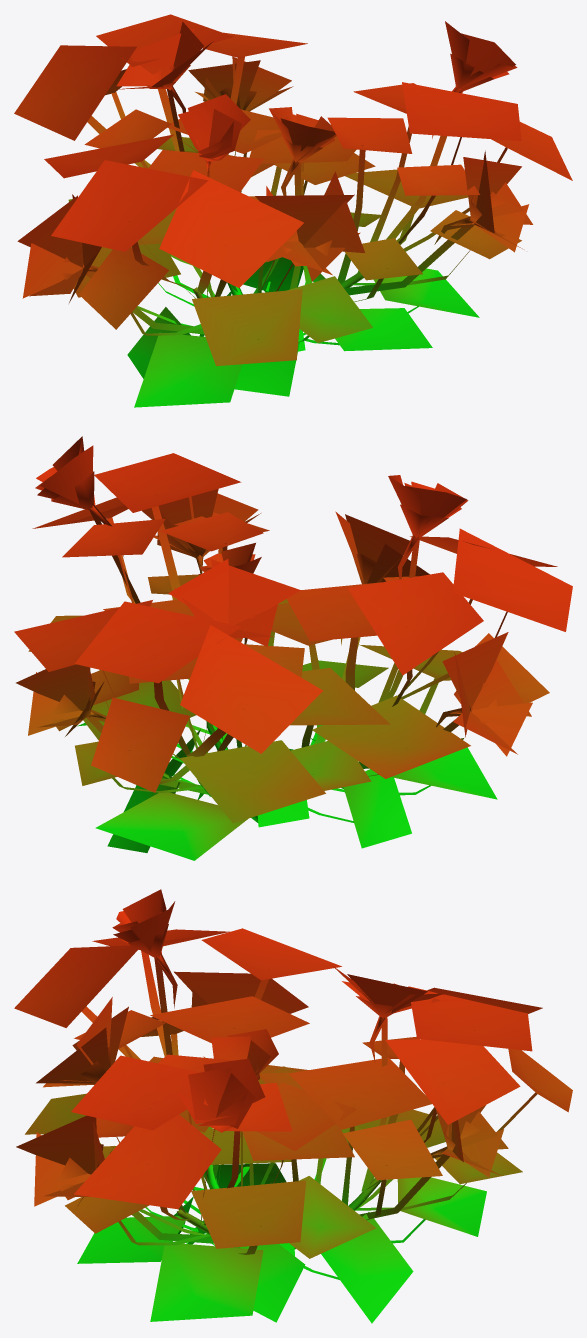
The model's file is Var8_LOD2.fbx.
3 renders of one model, top to bottom at view 1: azimuth 30°, elevation 25°; view 2: azimuth 150°, elevation 25°; view 3: azimuth 270°, elevation 25°, orthographic. The views are drawn at different scales.
Visible parts, largest first — view 1: _839c_Var8_LOD2; view 2: _839c_Var8_LOD2; view 3: _839c_Var8_LOD2.
Boxes of the visible parts, x1=… form: _839c_Var8_LOD2: x1=14, y1=14, x2=572, y2=407; _839c_Var8_LOD2: x1=14, y1=436, x2=572, y2=860; _839c_Var8_LOD2: x1=14, y1=889, x2=572, y2=1323.
Size of the model in its own units: 44.82 by 27.1 by 41.61.
